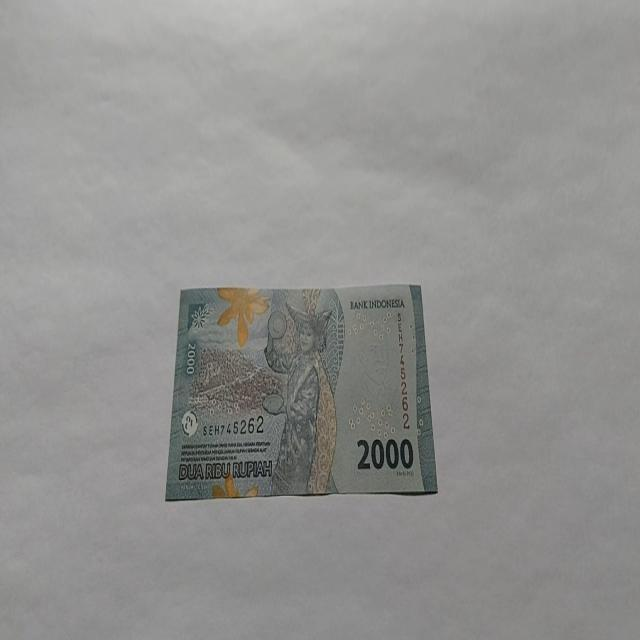dua ribu rupiah: (164, 282, 438, 500), (262, 290, 343, 496)
